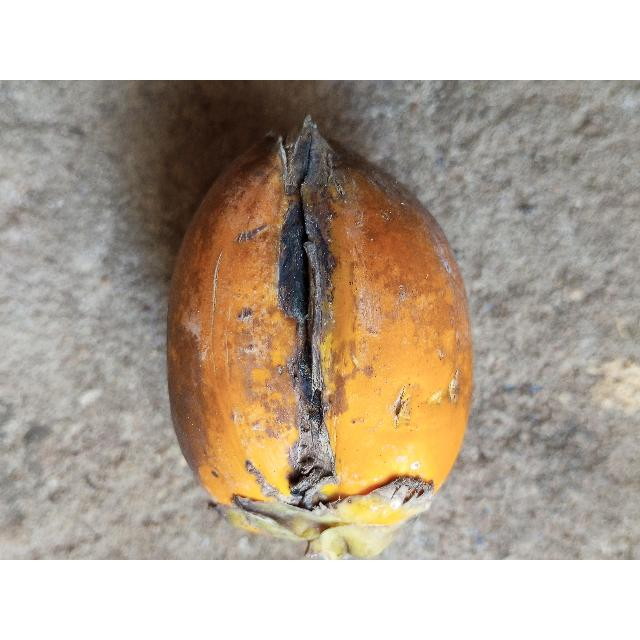damaged: (164, 118, 475, 560)
